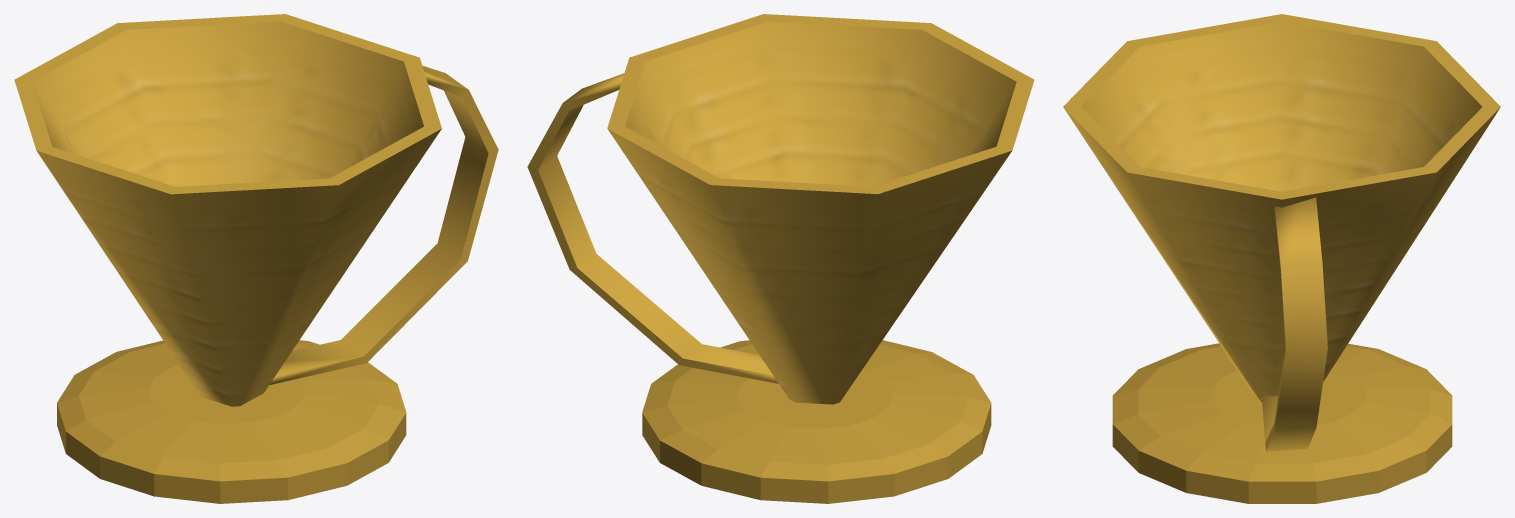
File: PlasticFilterHolder.fbx
The picture shows the model from 3 angles, left to right: view 1: azimuth 30°, elevation 25°; view 2: azimuth 150°, elevation 25°; view 3: azimuth 270°, elevation 25°; orthographic projection.
Parts seen in each view (by area): view 1: Filterholder; view 2: Filterholder; view 3: Filterholder.
Boxes of the visible parts, left/top/right/bottom form: Filterholder: left=14, top=14, right=498, bottom=503; Filterholder: left=527, top=14, right=1034, bottom=503; Filterholder: left=1063, top=14, right=1500, bottom=503.
Bounding box in the file's own units: 24.13 × 16.26 × 19.93.
